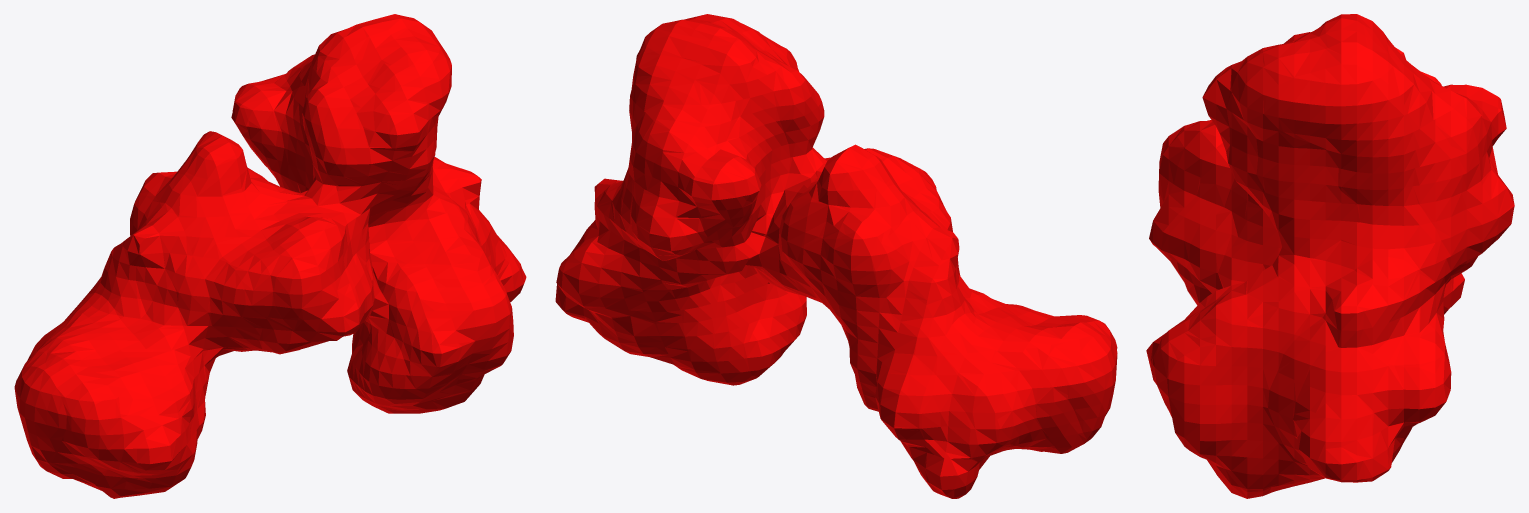
The model's file is Adenylyl_cyclase_associated_pr_coarse.dae.
3 renders of one model, left to right at view 1: azimuth 30°, elevation 25°; view 2: azimuth 150°, elevation 25°; view 3: azimuth 270°, elevation 25°, orthographic. The views are drawn at different scales.
Parts seen in each view (by area): view 1: Adenylyl_cyclase_associated_pr; view 2: Adenylyl_cyclase_associated_pr; view 3: Adenylyl_cyclase_associated_pr.
Part boxes in pixels (bbox=[...]): Adenylyl_cyclase_associated_pr: bbox=[14, 14, 526, 498]; Adenylyl_cyclase_associated_pr: bbox=[555, 14, 1117, 498]; Adenylyl_cyclase_associated_pr: bbox=[1146, 14, 1514, 498].
Size of the model in its own units: 114 by 79.04 by 56.39.
